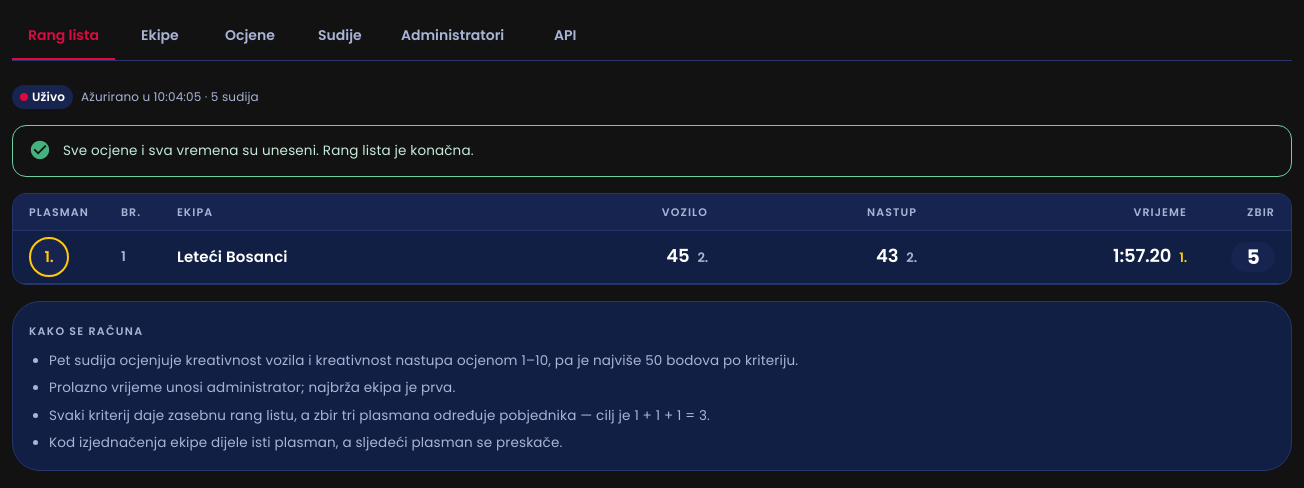
Test case: AdminConsole › mounts only the visible tab, so background tabs do not poll
The width and height of the screenshot is (1304, 488).
Expected: the text "Leteći Bosanci" is shown, [177, 245, 288, 269]
Step 1. Click the tab "Administratori" → (453,36), box [385, 12, 520, 60]
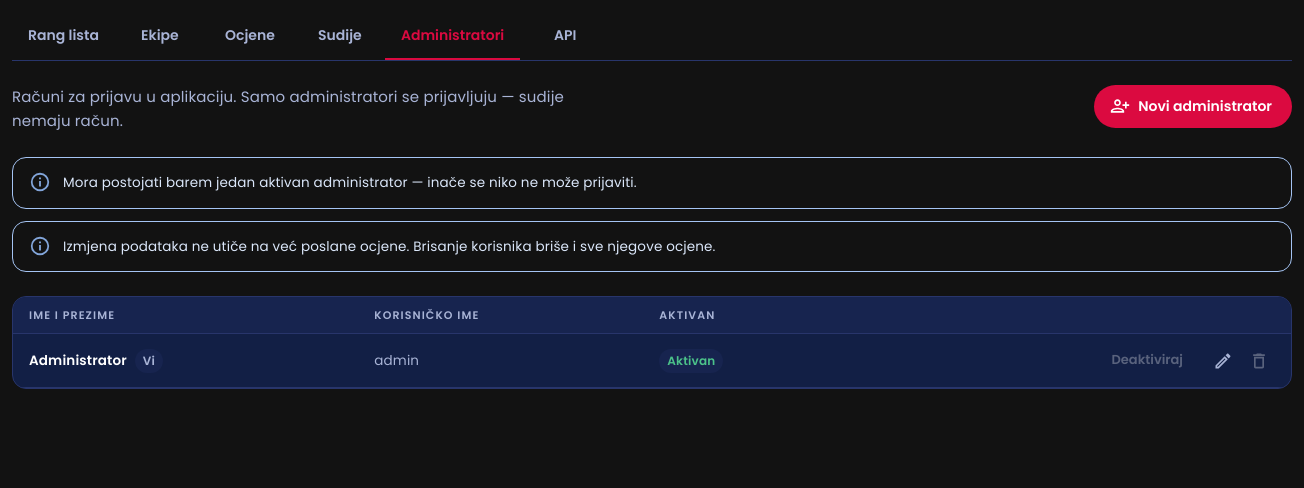
Result: the button "Novi administrator" is shown at [1094, 85, 1292, 128]
